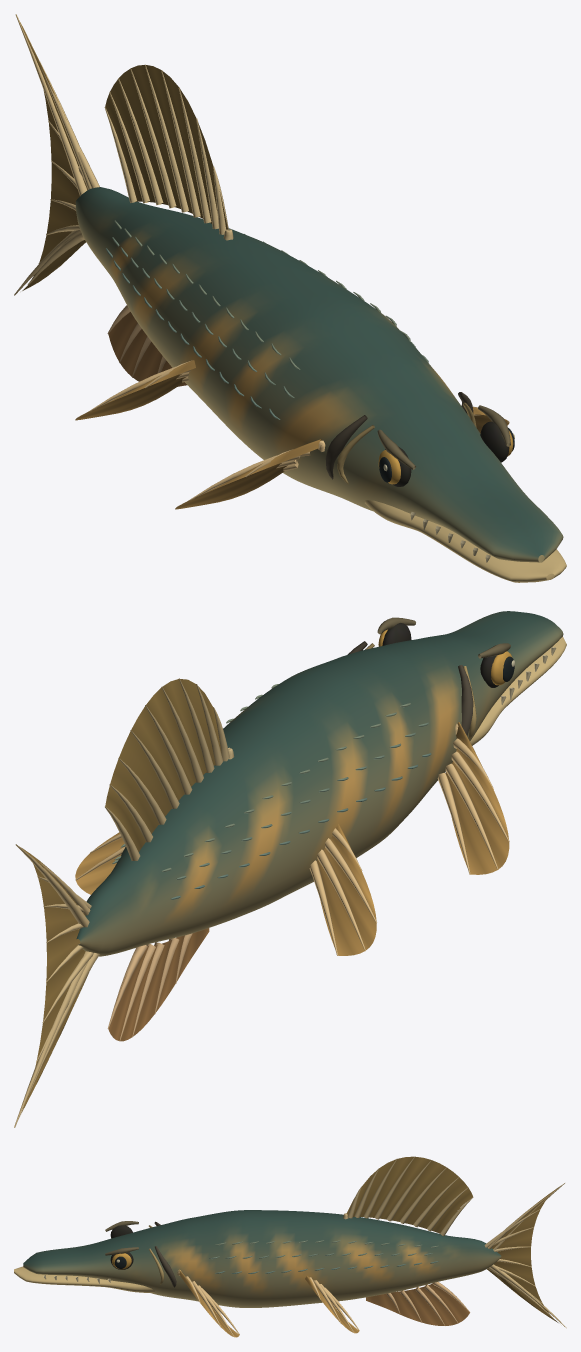
Rendered from pike.glb.
3 views of the same model, one above another, from view 1: azimuth 30°, elevation 25°; view 2: azimuth 150°, elevation 25°; view 3: azimuth 270°, elevation 25° (orthographic). The views are drawn at different scales.
Parts seen in each view (by area): view 1: body, dorsal, tail, fin_-1, jaw, fins; view 2: body, dorsal, fin_-1, tail, fins, jaw, fin_1; view 3: body, dorsal, tail, fins, fin_1, jaw.
Boxes of the visible parts, x1=… form: body: x1=75, y1=187, x2=563, y2=562; dorsal: x1=104, y1=64, x2=233, y2=240; tail: x1=14, y1=14, x2=99, y2=295; fin_-1: x1=75, y1=360, x2=325, y2=509; jaw: x1=365, y1=500, x2=566, y2=582; fins: x1=107, y1=305, x2=187, y2=386; body: x1=76, y1=611, x2=563, y2=956; dorsal: x1=105, y1=678, x2=234, y2=860; fin_-1: x1=309, y1=722, x2=509, y2=955; tail: x1=14, y1=844, x2=99, y2=1127; fins: x1=107, y1=928, x2=209, y2=1041; jaw: x1=470, y1=636, x2=566, y2=745; fin_1: x1=75, y1=832, x2=125, y2=894; body: x1=23, y1=1210, x2=501, y2=1307; dorsal: x1=343, y1=1156, x2=473, y2=1235; tail: x1=484, y1=1183, x2=566, y2=1328; fins: x1=366, y1=1282, x2=470, y2=1325; fin_1: x1=177, y1=1269, x2=359, y2=1337; jaw: x1=14, y1=1266, x2=154, y2=1292.
Bounding box in the file's own units: 1.26 × 1.22 × 3.55.
